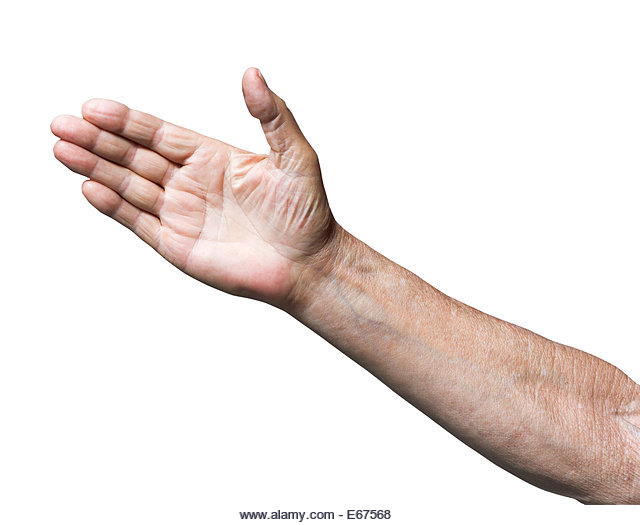non-diseased: (49, 69, 339, 300)
